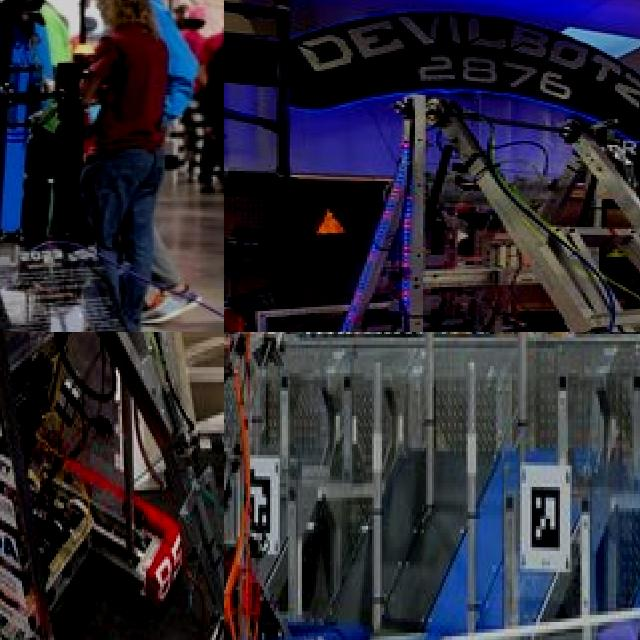FRC-Robots: (272, 96, 640, 332), (0, 0, 224, 332), (0, 332, 224, 640), (224, 332, 398, 640)
